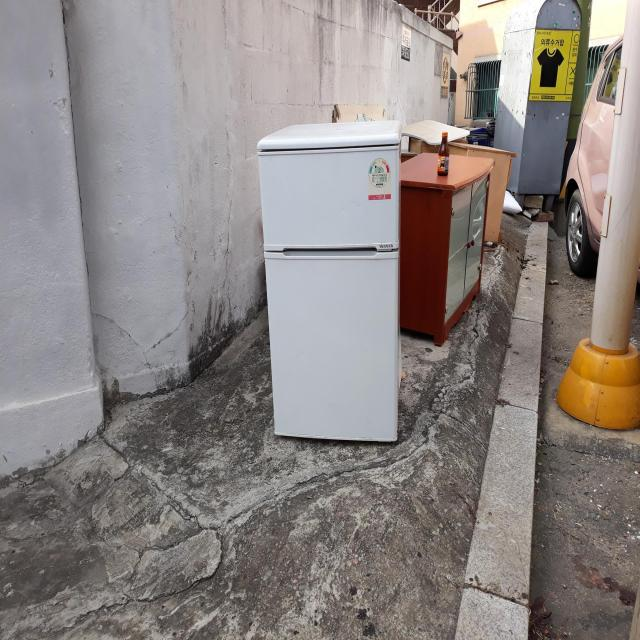refrigerator: (255, 119, 407, 448)
